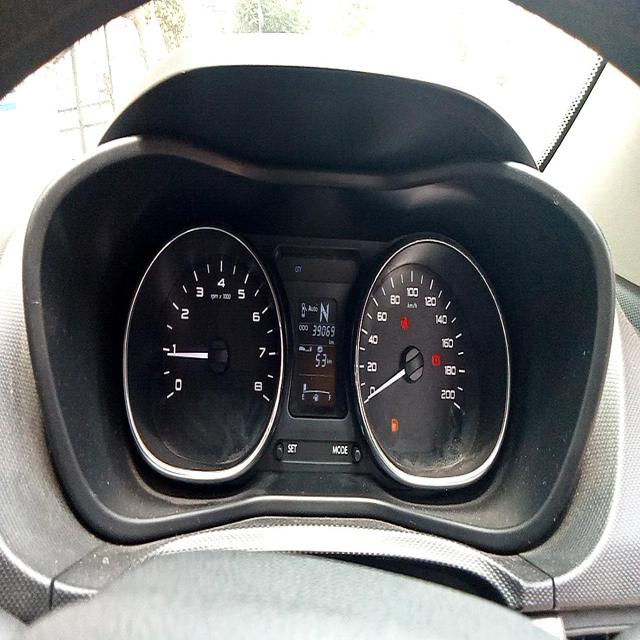odometer: (311, 324, 335, 337)
